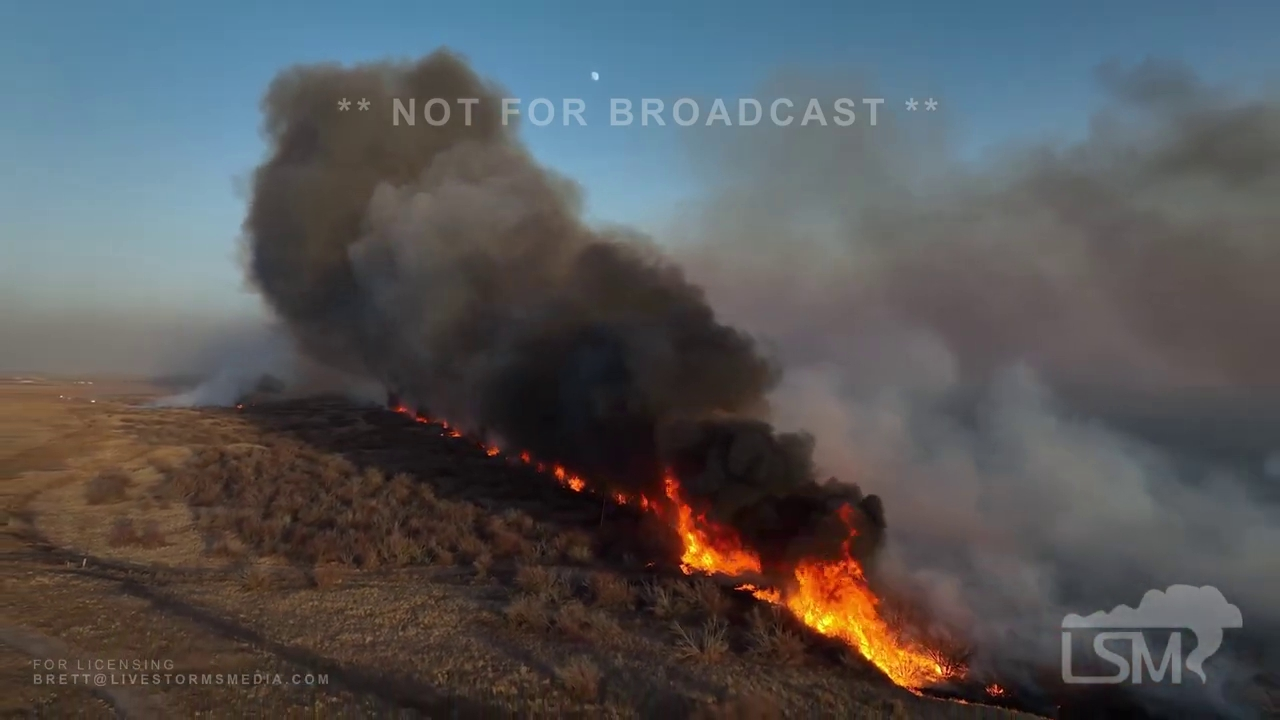forest_fire: (746, 555, 963, 688), (608, 472, 760, 576), (509, 451, 592, 490), (392, 403, 461, 436), (482, 443, 505, 454), (849, 526, 853, 538)
